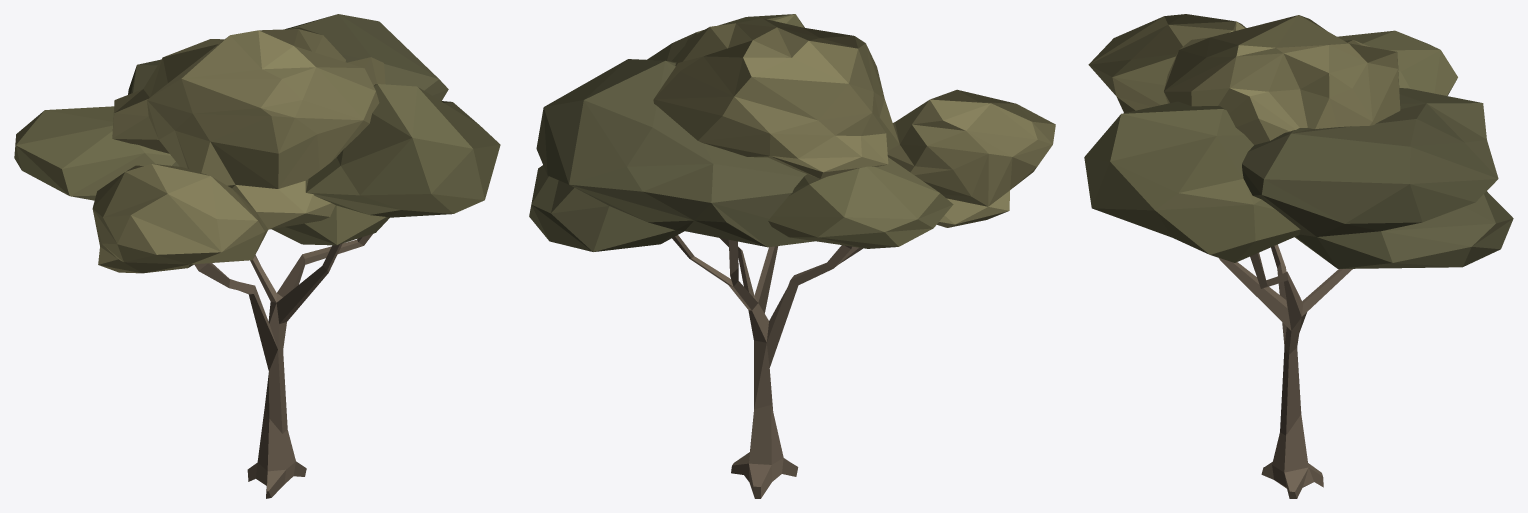
Rendered from SM_Env_Tree_Round_03.fbx.
The picture shows the model from 3 angles, left to right: view 1: azimuth 30°, elevation 25°; view 2: azimuth 150°, elevation 25°; view 3: azimuth 270°, elevation 25°; orthographic projection.
Parts seen in each view (by area): view 1: SM_Env_Tree_Round_03; view 2: SM_Env_Tree_Round_03; view 3: SM_Env_Tree_Round_03.
Part boxes in pixels (bbox=[...]): SM_Env_Tree_Round_03: bbox=[14, 14, 500, 498]; SM_Env_Tree_Round_03: bbox=[529, 14, 1055, 498]; SM_Env_Tree_Round_03: bbox=[1084, 14, 1513, 498].
Bounding box in the file's own units: 666 × 703 × 609.
